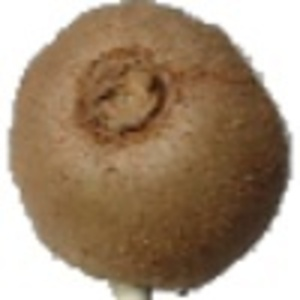kiwi: (6, 1, 291, 300)
